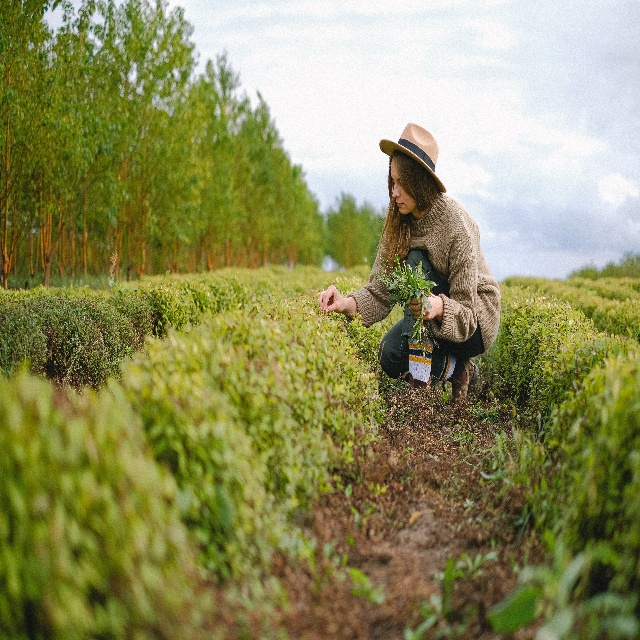Sin_guantes: (405, 286, 438, 323), (318, 283, 346, 316)
